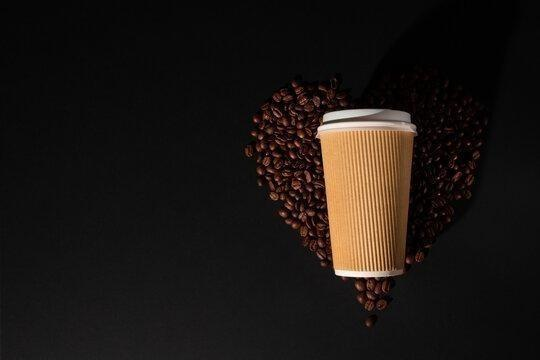cup-disposable: (314, 103, 419, 283)
